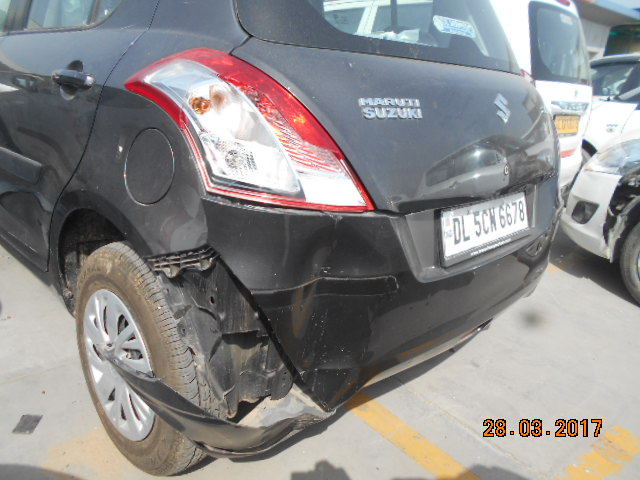Dent: (302, 231, 386, 340)
Tear: (205, 248, 236, 290), (271, 325, 291, 373), (242, 281, 261, 330), (297, 379, 319, 419)
